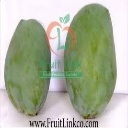mango: (64, 3, 117, 119)
